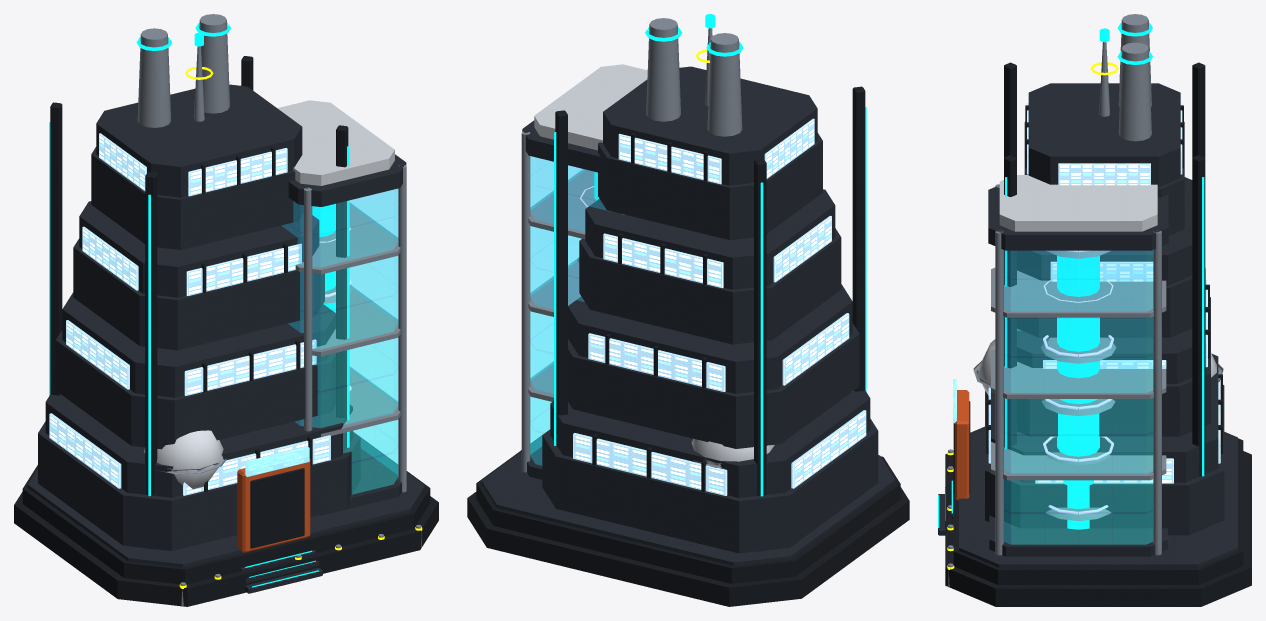
The model's file is bldg_07_r1_04.glb.
The picture shows the model from 3 angles, left to right: view 1: azimuth 30°, elevation 25°; view 2: azimuth 150°, elevation 25°; view 3: azimuth 270°, elevation 25°; orthographic projection. The views are drawn at different scales.
Parts seen in each view (by area): view 1: Bldg07_C04_carbon_slate, Bldg07_C04_gunmetal, Bldg07_C04_glass_cyan, Bldg07_C04_steel_machined, Bldg07_C04_window_lit, Bldg07_C04_aero_white, Bldg07_C04_led_cyan, Bldg07_C04_accent_orange, Bldg07_C04_marquee; view 2: Bldg07_C04_carbon_slate, Bldg07_C04_gunmetal, Bldg07_C04_window_lit, Bldg07_C04_steel_machined, Bldg07_C04_glass_cyan, Bldg07_C04_aero_white, Bldg07_C04_led_cyan; view 3: Bldg07_C04_carbon_slate, Bldg07_C04_glass_cyan, Bldg07_C04_steel_machined, Bldg07_C04_gunmetal, Bldg07_C04_led_cyan, Bldg07_C04_aero_white, Bldg07_C04_window_lit, Bldg07_C04_accent_orange, Bldg07_C04_led_uv.
Part boxes in pixels (box(x1,y1,x2,y2)): Bldg07_C04_carbon_slate: box(27, 84, 425, 593); Bldg07_C04_gunmetal: box(14, 56, 438, 606); Bldg07_C04_glass_cyan: box(281, 188, 398, 494); Bldg07_C04_steel_machined: box(137, 14, 421, 606); Bldg07_C04_window_lit: box(49, 133, 330, 495); Bldg07_C04_aero_white: box(143, 100, 394, 489); Bldg07_C04_led_cyan: box(49, 23, 349, 587); Bldg07_C04_accent_orange: box(237, 459, 310, 552); Bldg07_C04_marquee: box(245, 446, 309, 476); Bldg07_C04_carbon_slate: box(481, 66, 895, 565); Bldg07_C04_gunmetal: box(467, 86, 909, 606); Bldg07_C04_window_lit: box(573, 118, 866, 495); Bldg07_C04_steel_machined: box(521, 18, 742, 472); Bldg07_C04_glass_cyan: box(530, 156, 610, 465); Bldg07_C04_aero_white: box(534, 64, 852, 465); Bldg07_C04_led_cyan: box(554, 14, 866, 496); Bldg07_C04_carbon_slate: box(938, 83, 1237, 567); Bldg07_C04_glass_cyan: box(1004, 250, 1152, 544); Bldg07_C04_steel_machined: box(947, 14, 1223, 587); Bldg07_C04_gunmetal: box(945, 62, 1251, 606); Bldg07_C04_led_cyan: box(938, 23, 1204, 529); Bldg07_C04_aero_white: box(978, 175, 1218, 395); Bldg07_C04_window_lit: box(988, 103, 1220, 483); Bldg07_C04_accent_orange: box(954, 390, 969, 500); Bldg07_C04_led_uv: box(1043, 250, 1113, 514).
Bounding box in the file's own units: 12 × 17.52 × 10.23.
Materials: 11 (11 with a texture image).
